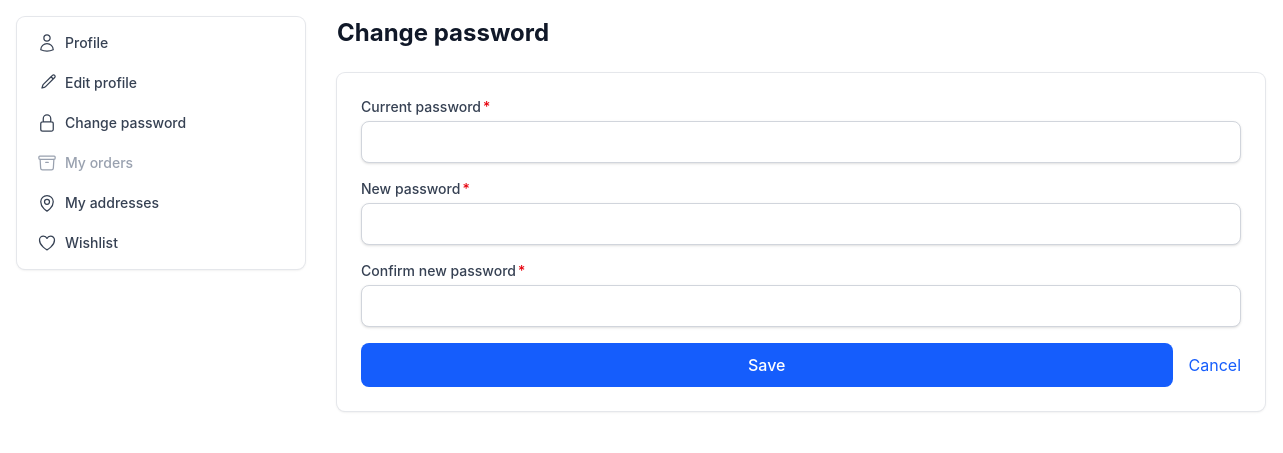
Scenario: PasswordChangePage › shows a field-level error next to the current password input and preserves other values
In the password field labelled "Current password*": (801, 142) [361, 121, 1241, 163], type "wrong"
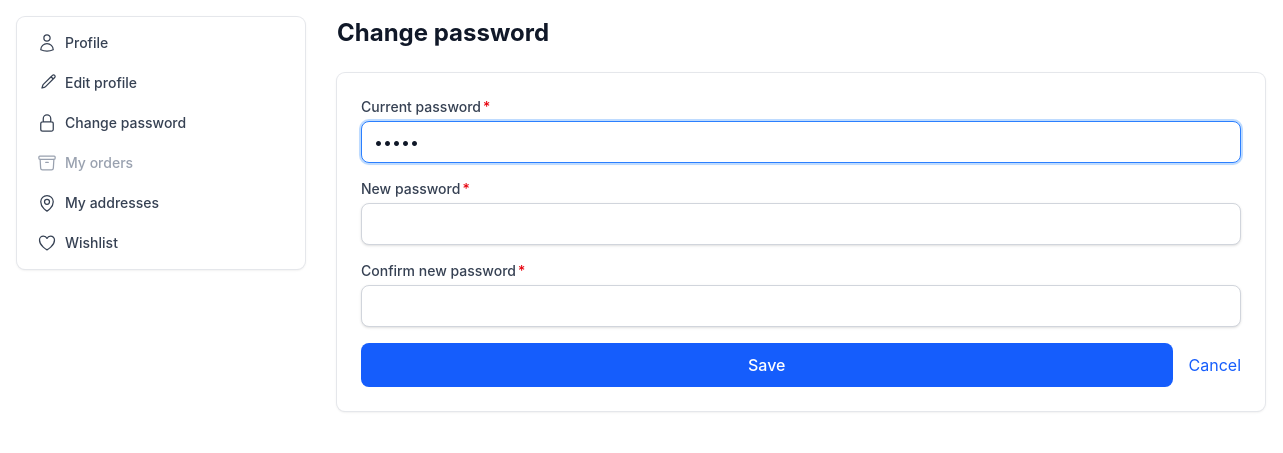
In the password field labelled "New password*": (801, 224) [361, 203, 1241, 245], type "NewPass456!"
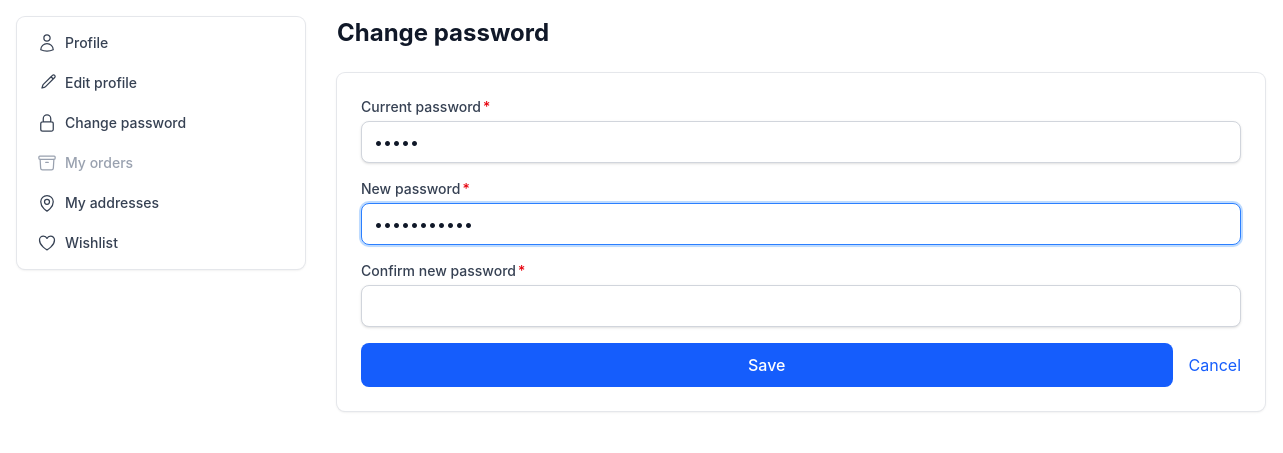
In the password field labelled "Confirm new password*": (801, 306) [361, 285, 1241, 327], type "y"
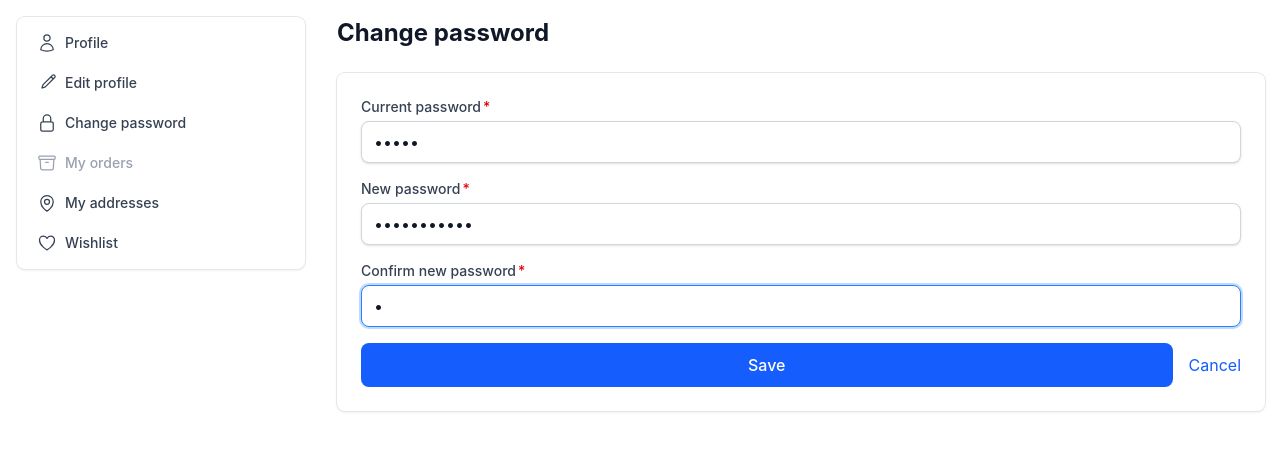
Click the button "Save": click(767, 365) [361, 343, 1172, 387]
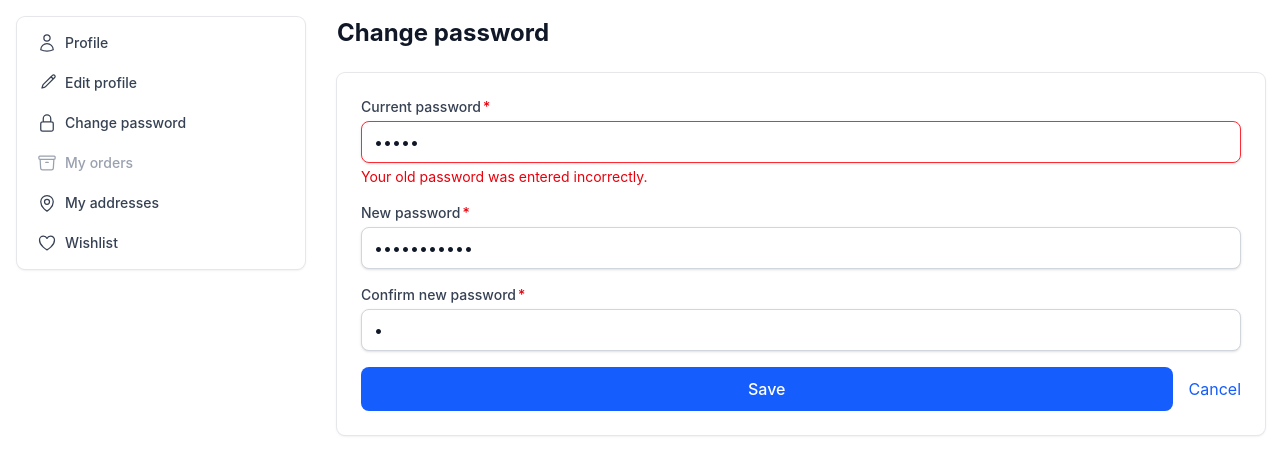
Expected: the text "Your old password was entered incorrectly." is shown, [361, 168, 648, 185]
